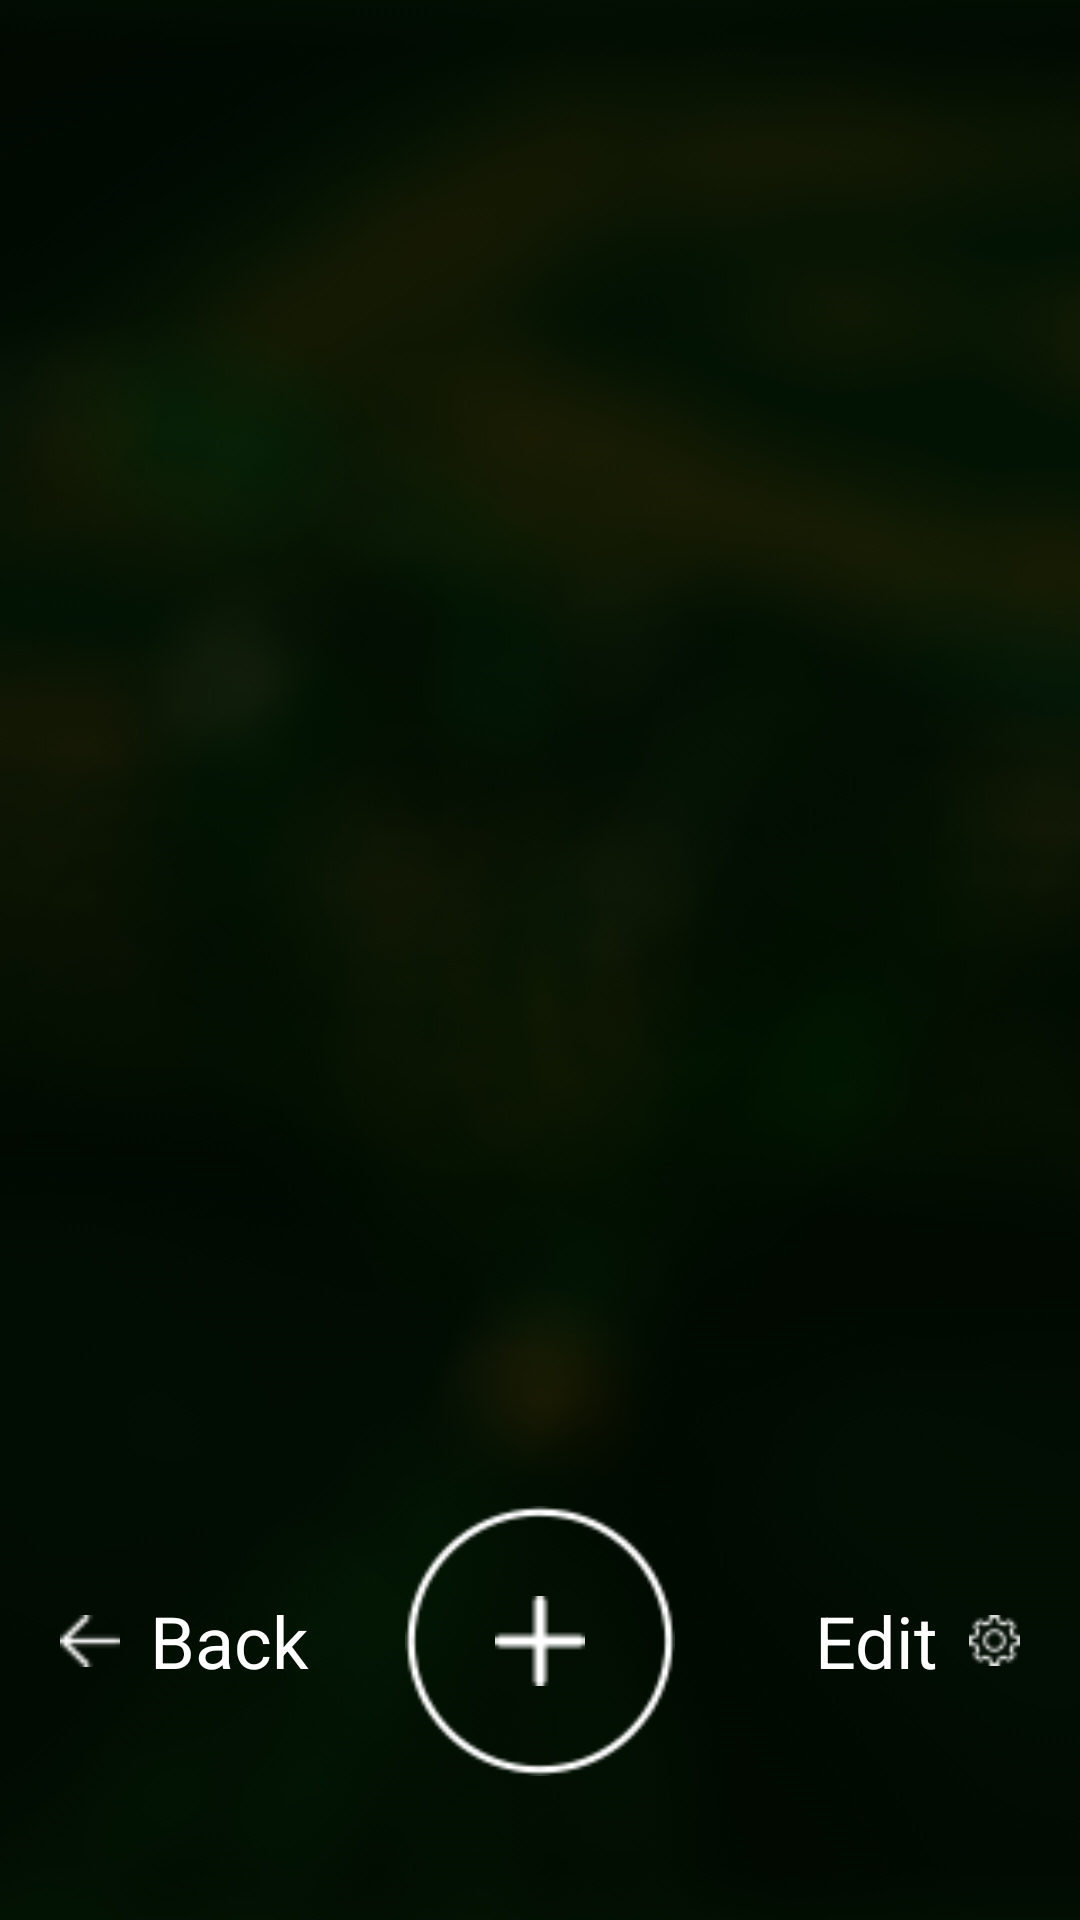

Named icons in this screenshot (1080w x 1920h) and their bounding boxes, (x1, y1, x2, y2):
add: (495, 1596, 585, 1686)
setting: (969, 1615, 1020, 1666)
